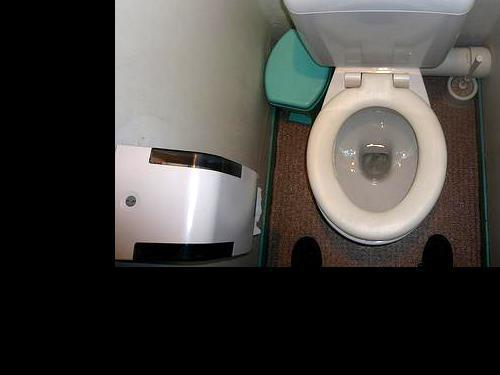Bote de Basura: (261, 35, 344, 130)
Sanitario: (279, 0, 485, 245)
